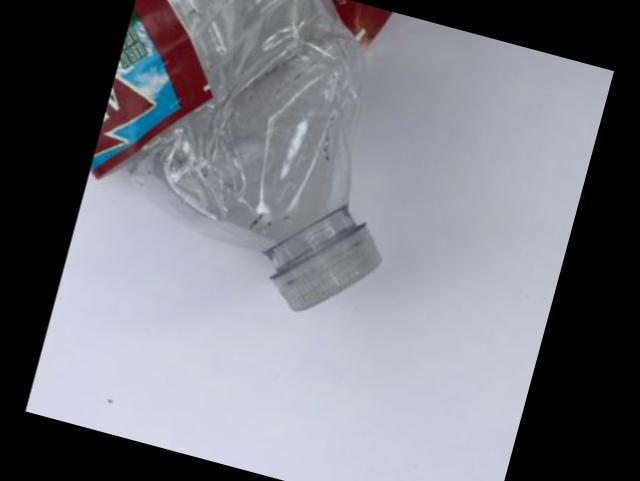plastic: (90, 0, 378, 308)
